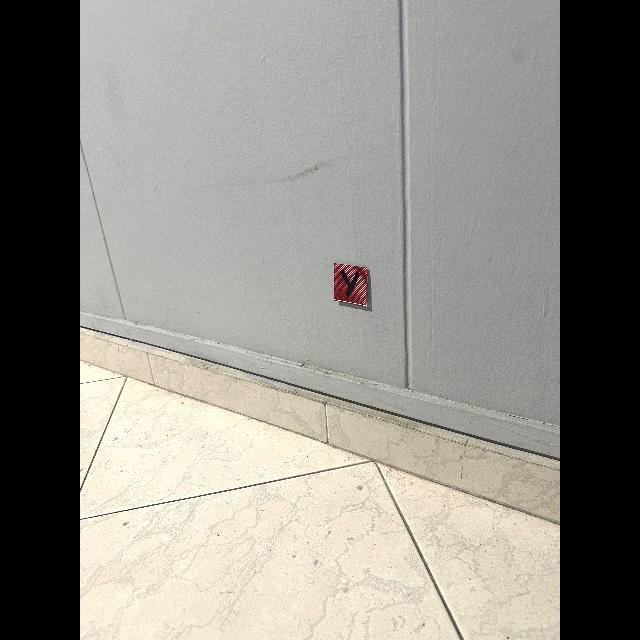Y: (341, 270, 360, 297)
